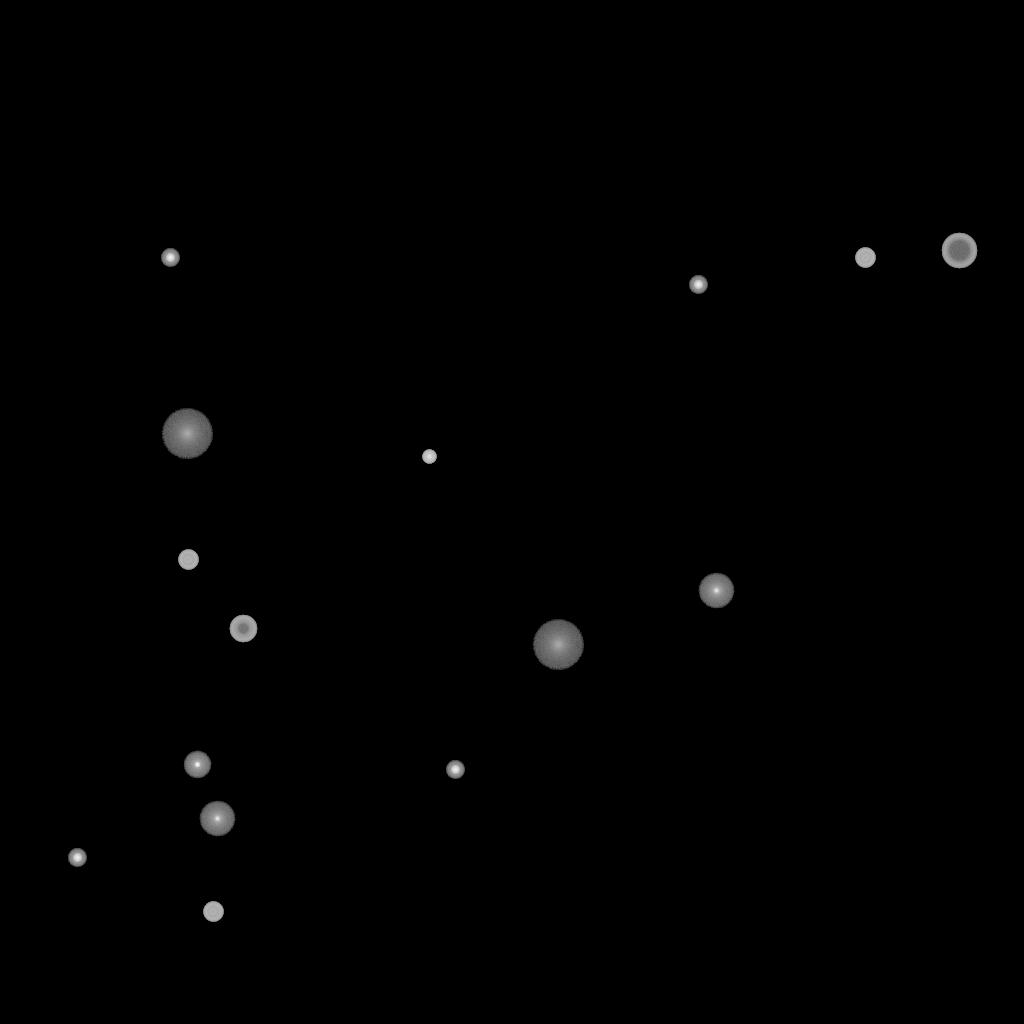depth:-10: (183, 751, 211, 779)
depth:-20: (68, 849, 86, 867), (446, 761, 464, 779), (161, 249, 179, 267), (689, 276, 707, 294)
depth:-30: (422, 450, 436, 464)
depth:-40: (203, 902, 223, 922), (855, 248, 875, 268), (178, 550, 198, 570)
depth:-50: (229, 615, 257, 643)
depth:-60: (941, 233, 977, 269)
depth:0: (199, 801, 235, 837), (698, 573, 734, 609)
depth:20: (532, 620, 584, 670), (161, 409, 213, 459)
